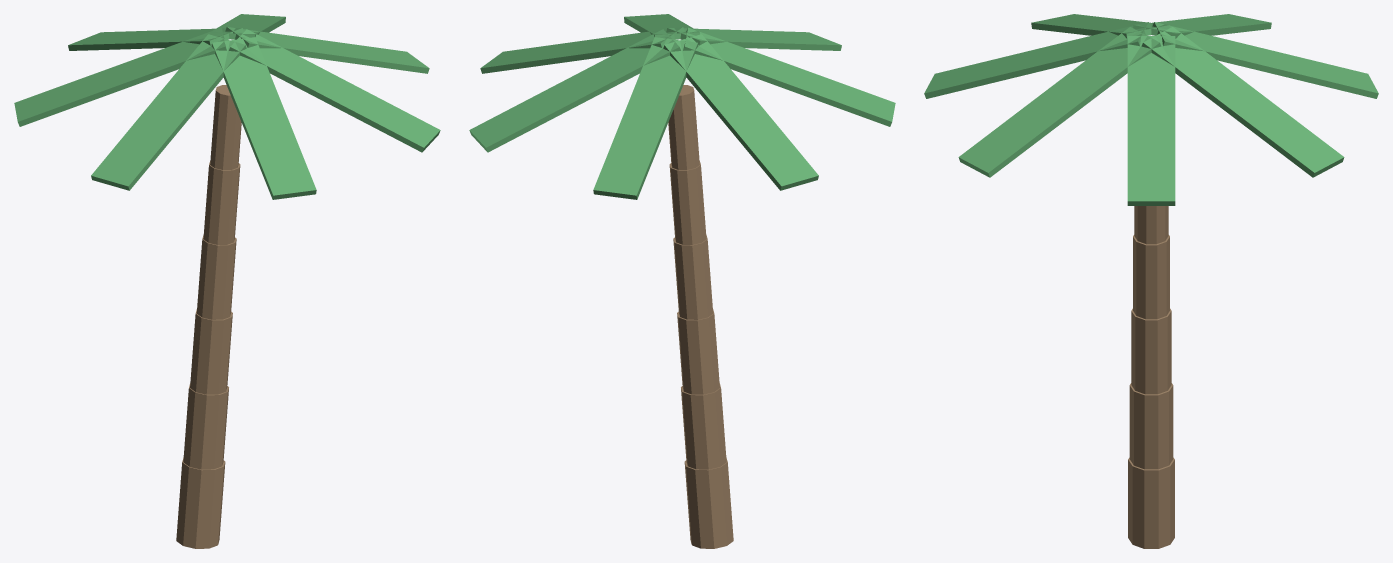
File: palm_tree_01_clean.glb
3 renders of one model, left to right at view 1: azimuth 30°, elevation 25°; view 2: azimuth 150°, elevation 25°; view 3: azimuth 270°, elevation 25°, orthographic. The views are drawn at different scales.
Visible parts, largest first — view 1: Cube.005, Cube.004, Cube.006, Cube.003, Cylinder, Cube, Cylinder.001, Cylinder.002, Cylinder.003, Cylinder.004, Cube.002, Cylinder.005 (+1 smaller); view 2: Cube.002, Cube.003, Cube.001, Cube.004, Cylinder, Cube, Cylinder.001, Cylinder.002, Cylinder.003, Cylinder.004, Cube.005, Cylinder.005 (+1 smaller); view 3: Cube, Cube.001, Cube.006, Cube.002, Cube.005, Cylinder, Cylinder.001, Cylinder.002, Cylinder.003, Cube.003, Cube.004, Cylinder.004.
Part boxes in pixels (bbox=[...]): Cube.005: bbox=[211, 37, 316, 199]; Cube.004: bbox=[91, 34, 246, 190]; Cube.006: bbox=[229, 29, 440, 152]; Cube.003: bbox=[14, 27, 226, 126]; Cylinder: bbox=[176, 457, 225, 548]; Cube: bbox=[225, 27, 429, 73]; Cylinder.001: bbox=[183, 383, 228, 469]; Cylinder.002: bbox=[190, 309, 232, 394]; Cylinder.003: bbox=[196, 235, 236, 319]; Cylinder.004: bbox=[203, 161, 240, 244]; Cube.002: bbox=[68, 28, 243, 50]; Cylinder.005: bbox=[210, 85, 241, 169]; Cube.002: bbox=[593, 37, 698, 199]; Cube.003: bbox=[663, 34, 818, 190]; Cube.001: bbox=[469, 29, 680, 152]; Cube.004: bbox=[683, 27, 895, 126]; Cylinder: bbox=[684, 457, 733, 548]; Cube: bbox=[480, 27, 684, 73]; Cylinder.001: bbox=[681, 383, 726, 469]; Cylinder.002: bbox=[677, 309, 719, 394]; Cylinder.003: bbox=[673, 235, 713, 319]; Cylinder.004: bbox=[669, 161, 706, 244]; Cube.005: bbox=[666, 28, 841, 50]; Cylinder.005: bbox=[668, 85, 699, 169]; Cube: bbox=[1127, 36, 1175, 205]; Cube.001: bbox=[1141, 27, 1344, 177]; Cube.006: bbox=[958, 27, 1161, 177]; Cube.002: bbox=[1152, 22, 1378, 98]; Cube.005: bbox=[924, 22, 1150, 98]; Cylinder: bbox=[1128, 457, 1174, 548]; Cylinder.001: bbox=[1129, 383, 1173, 469]; Cylinder.002: bbox=[1131, 308, 1171, 394]; Cylinder.003: bbox=[1133, 235, 1169, 319]; Cube.003: bbox=[1133, 14, 1271, 38]; Cube.004: bbox=[1031, 14, 1169, 38]; Cylinder.004: bbox=[1134, 206, 1168, 244].
Bounding box in the file's own units: 4.17 × 5.45 × 4.28.
